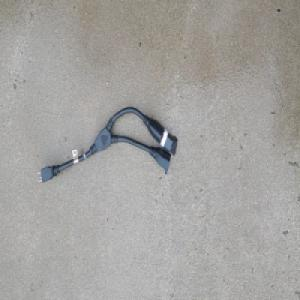Wire: (35, 104, 178, 184)
